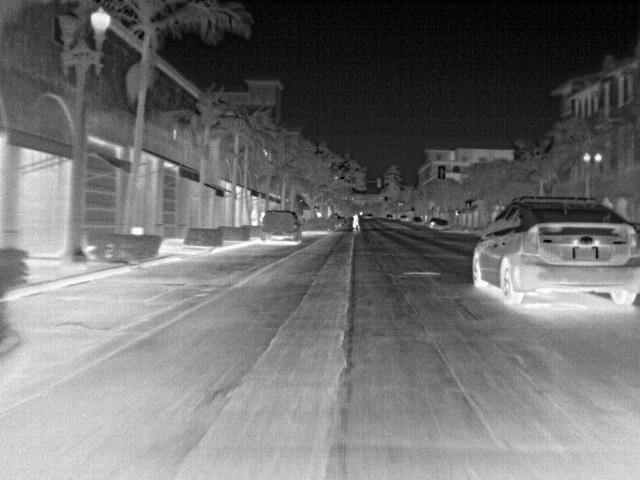car: (469, 198, 640, 304), (258, 210, 302, 248), (430, 218, 450, 234), (410, 214, 423, 226), (400, 213, 412, 223)
person: (351, 211, 364, 231)
